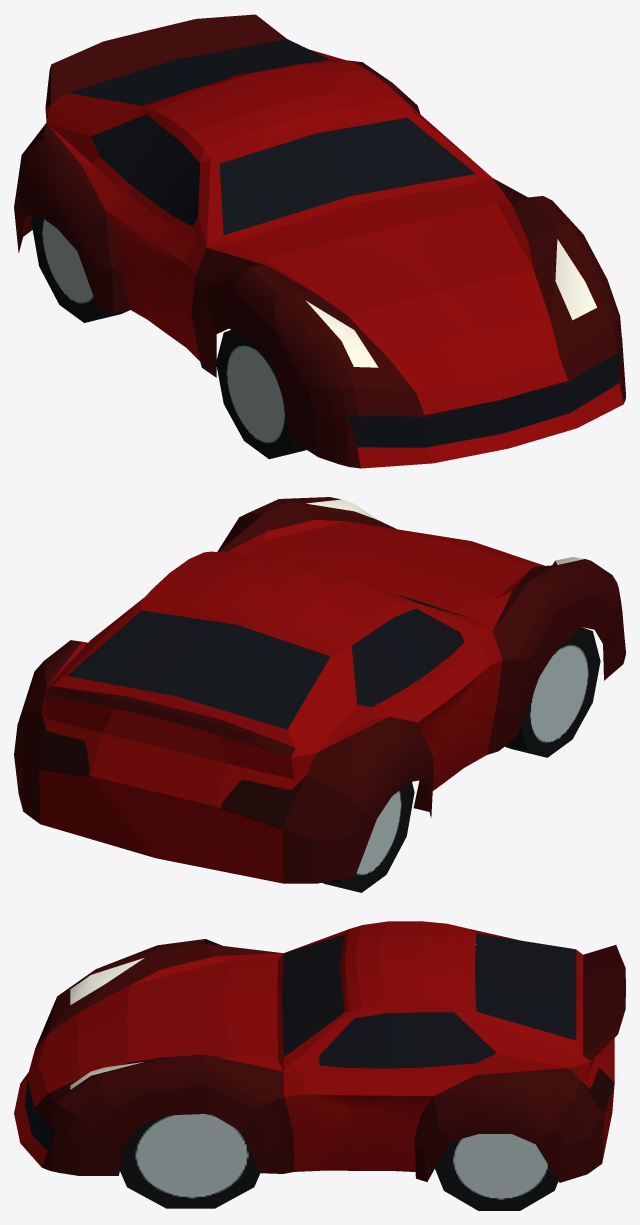
Rendered from Car_1.fbx.
3 views of the same model, one above another, from view 1: azimuth 30°, elevation 25°; view 2: azimuth 150°, elevation 25°; view 3: azimuth 270°, elevation 25° (orthographic). The views are drawn at different scales.
Parts seen in each view (by area): view 1: Window_Farrari; view 2: Window_Farrari; view 3: Window_Farrari.
Part boxes in pixels (left/top/right/bottom): Window_Farrari: left=14, top=14, right=625, bottom=468; Window_Farrari: left=14, top=497, right=625, bottom=892; Window_Farrari: left=14, top=921, right=625, bottom=1210.
Size of the model in its own units: 7.35 by 4.45 by 12.7.
2 materials, 2 textured.
